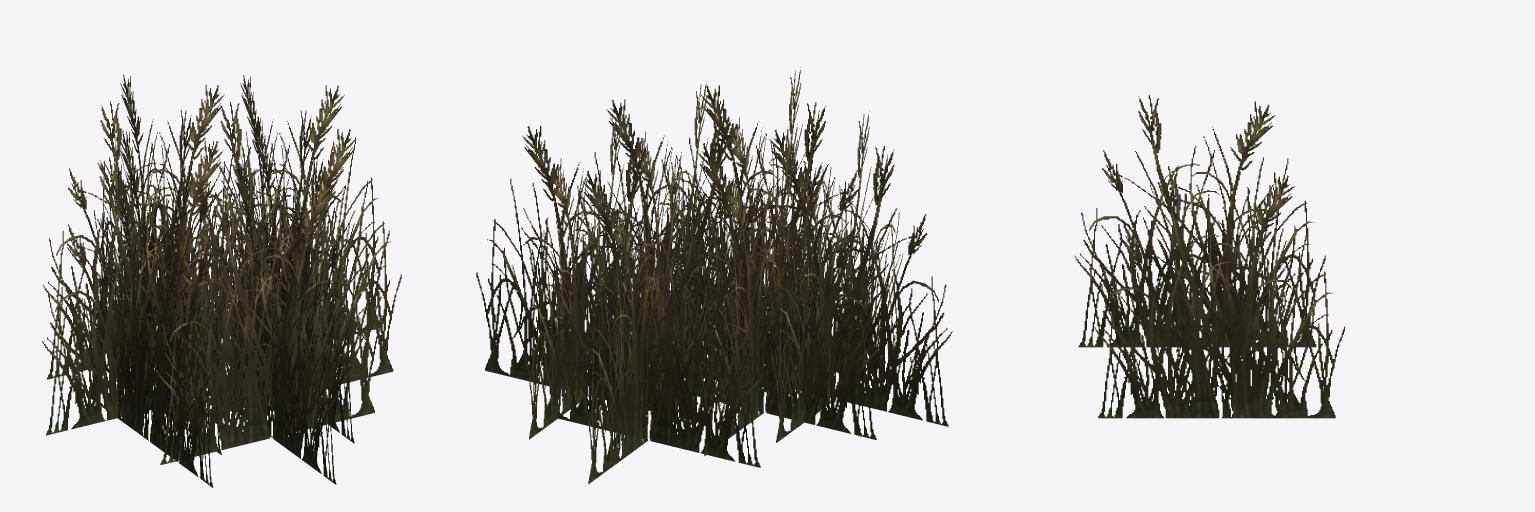
File: INST_OH_GRASS_CLUMP_PLANT_01.fbx
The picture shows the model from 3 angles, left to right: view 1: azimuth 30°, elevation 25°; view 2: azimuth 150°, elevation 25°; view 3: azimuth 270°, elevation 25°; orthographic projection. The views are drawn at different scales.
Parts seen in each view (by area): view 1: INST_OH_GRASS_CLUMP_PLANT_01; view 2: INST_OH_GRASS_CLUMP_PLANT_01; view 3: INST_OH_GRASS_CLUMP_PLANT_01.
Part boxes in pixels (bbox=[...]): INST_OH_GRASS_CLUMP_PLANT_01: bbox=[42, 75, 401, 487]; INST_OH_GRASS_CLUMP_PLANT_01: bbox=[476, 67, 952, 484]; INST_OH_GRASS_CLUMP_PLANT_01: bbox=[1074, 95, 1344, 418].
Size of the model in its own units: 11082 by 6536 by 11410.
1 material, 1 textured.
